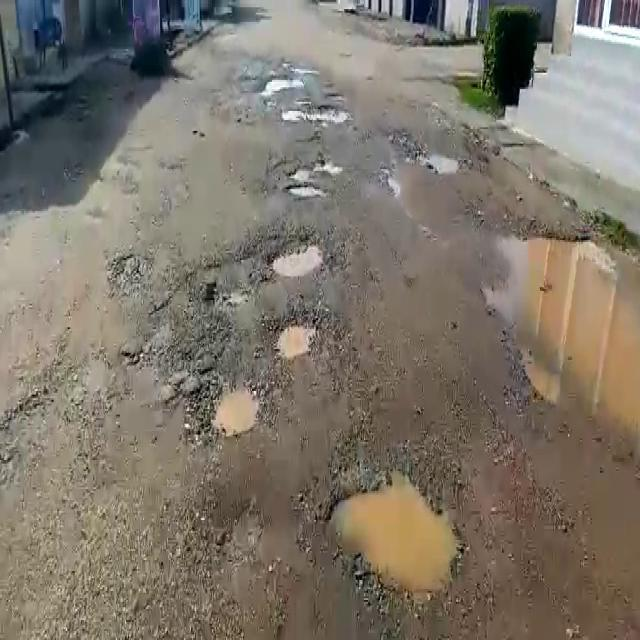pothole: (322, 461, 462, 608), (197, 375, 267, 438), (269, 236, 329, 282), (267, 313, 319, 358), (281, 102, 352, 123), (283, 178, 329, 199), (423, 153, 461, 176)
